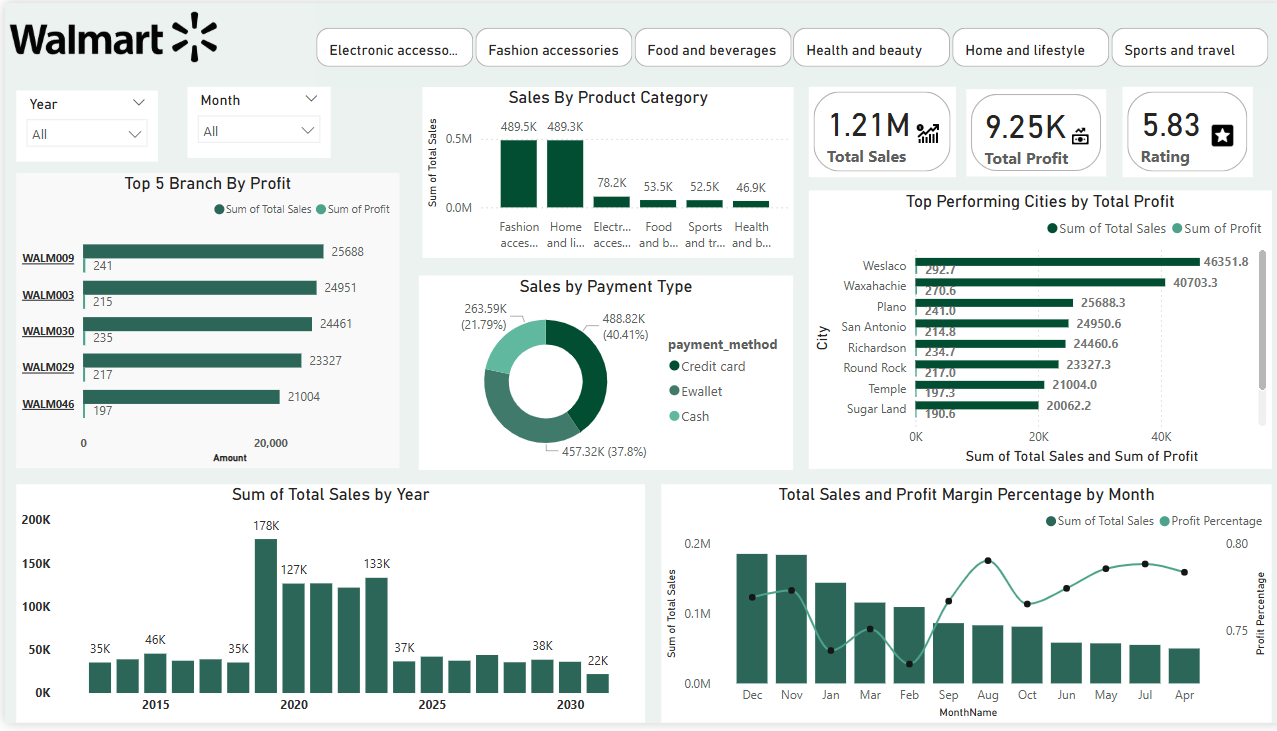

The page's visual inventory and layout, read from the dashboard file:
{"tool":"powerbi","page":{"name":"Page 1","canvas":[1280,720],"ordinal":0},"visuals":[{"type":"clusteredBarChart","title":"Top Performing Cities by Total Profit","fields":{"Category":["Wallmart.City"],"Y":["Sum(Wallmart.total)","Sum(Wallmart.Profit)"]},"box":[804,187.1,462.9,278.6],"z":0},{"type":"clusteredBarChart","title":"Top 5 Branch By Profit","fields":{"Category":["Wallmart.Branch"],"Y":["Sum(Wallmart.Total Sales)","Sum(Wallmart.Profit)"]},"box":[11,170.2,382.8,295],"z":1000},{"type":"lineStackedColumnComboChart","title":"Total Sales and Profit Margin Percentage by Month","fields":{"Y":["Sum(Wallmart.Total Sales)"],"Y2":["Measure Table (2).Profit Percentage"],"Category":["Wallmart.MonthName"]},"box":[655.9,481.6,610.6,238.8],"z":2000},{"type":"columnChart","fields":{"Category":["Wallmart.date.Variation.Date Hierarchy.Year"],"Y":["Sum(Wallmart.Total Sales)"]},"box":[11.4,481.4,628.6,238.6],"z":3000},{"type":"donutChart","title":"Sales by Payment Type","fields":{"Category":["Wallmart.payment_method"],"Y":["Sum(Wallmart.Total Sales)"]},"box":[414.3,272.9,374.3,194.3],"z":4000},{"type":"columnChart","title":"Sales By Product Category","fields":{"Category":["Wallmart.category"],"Y":["Sum(Wallmart.Total Sales)"]},"box":[417.1,84.3,371.4,171.4],"z":5000},{"type":"advancedSlicerVisual","fields":{"Values":["Wallmart.category"]},"box":[311.4,0,955.7,84.3],"z":6000},{"type":"slicer","fields":{"Values":["Wallmart.date.Variation.Date Hierarchy.Year"]},"box":[11.4,87.1,141.4,71.4],"z":7000},{"type":"slicer","fields":{"Values":["Wallmart.date.Variation.Date Hierarchy.Month"]},"box":[182.9,84.3,142.9,71.4],"z":8000},{"type":"cardVisual","fields":{"Data":["Sum(Wallmart.Total Sales)"]},"box":[804.3,84.3,147.1,90],"z":9000},{"type":"cardVisual","fields":{"Data":["Wallmart.Total Profit"]},"box":[961.4,85.7,140,87.1],"z":10000},{"type":"image","box":[0,0,217.1,68.6],"z":11000},{"type":"cardVisual","fields":{"Data":["Measure Table (2).Average Rating"]},"box":[1117.1,84.3,130,90],"z":12000}]}

Visuals, with their boxes in screenshot pixels (x1, y1, x2, y2), scaled from the page's 1280x720 canvas onto the 1277x731 screenshot:
"Top Performing Cities by Total Profit" clusteredBarChart: [802, 190, 1264, 473]
"Top 5 Branch By Profit" clusteredBarChart: [11, 173, 393, 472]
"Total Sales and Profit Margin Percentage by Month" lineStackedColumnComboChart: [654, 489, 1264, 730]
columnChart - Wallmart.date.Variation.Date Hierarchy.Year x Sum(Wallmart.Total Sales): [11, 489, 638, 730]
"Sales by Payment Type" donutChart: [413, 277, 787, 474]
"Sales By Product Category" columnChart: [416, 86, 787, 260]
advancedSlicerVisual - Wallmart.category: [311, 0, 1264, 86]
slicer - Wallmart.date.Variation.Date Hierarchy.Year: [11, 88, 152, 161]
slicer - Wallmart.date.Variation.Date Hierarchy.Month: [182, 86, 325, 158]
cardVisual - Sum(Wallmart.Total Sales): [802, 86, 949, 177]
cardVisual - Wallmart.Total Profit: [959, 87, 1099, 175]
image: [0, 0, 217, 70]
cardVisual - Measure Table (2).Average Rating: [1114, 86, 1244, 177]
